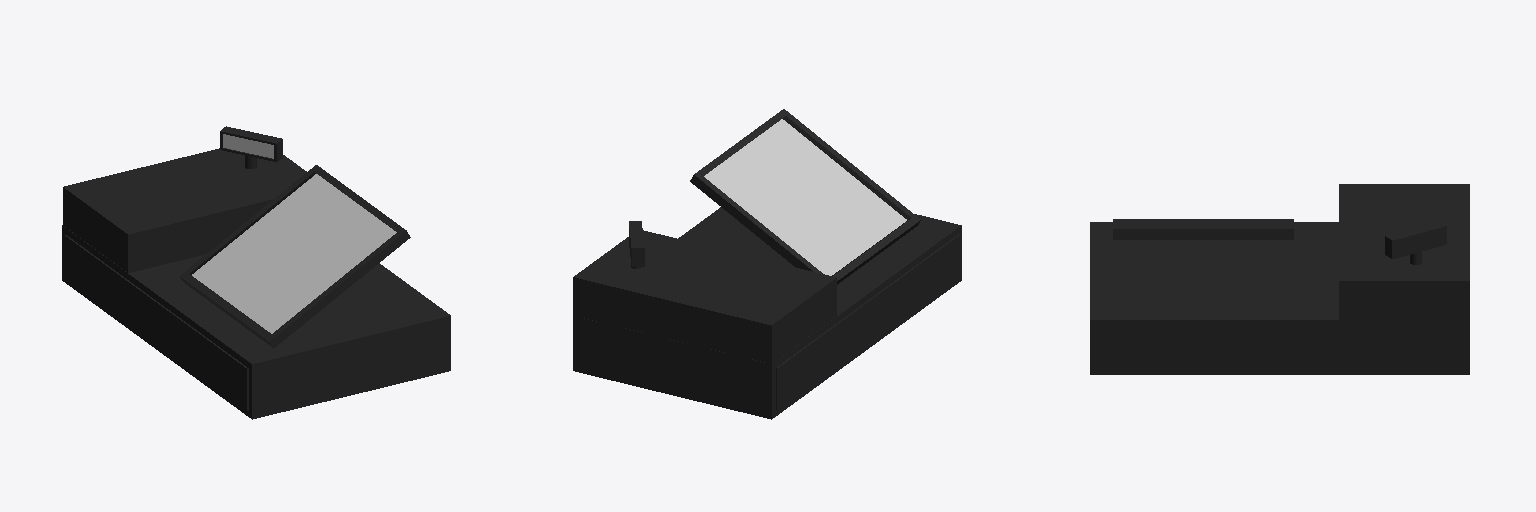
File: cashRegister.obj
3 renders of one model, left to right at view 1: azimuth 30°, elevation 25°; view 2: azimuth 150°, elevation 25°; view 3: azimuth 270°, elevation 25°, orthographic.
Parts seen in each view (by area): view 1: base_Cube, main_screen_Cube.001, Cube.002, Cube.003_Cube.004, tiny_screen_Cube.003; view 2: Cube.002, main_screen_Cube.001, base_Cube, Cube.003_Cube.004, tiny_screen_Cube.003; view 3: base_Cube, Cube.002, main_screen_Cube.001, tiny_screen_Cube.003.
Part boxes in pixels (x1,y1,x2,y2): base_Cube: (62,225,450,419); main_screen_Cube.001: (180,165,410,347); Cube.002: (63,148,306,272); Cube.003_Cube.004: (65,235,248,410); tiny_screen_Cube.003: (220,126,282,161); Cube.002: (573,230,836,363); main_screen_Cube.001: (690,109,920,284); base_Cube: (573,207,961,419); Cube.003_Cube.004: (776,234,959,409); tiny_screen_Cube.003: (629,221,644,266); base_Cube: (1090,222,1469,374); Cube.002: (1339,184,1469,319); main_screen_Cube.001: (1113,219,1293,239); tiny_screen_Cube.003: (1385,222,1446,258).
Bounding box in the file's own units: 1.04 × 0.6928 × 1.7.